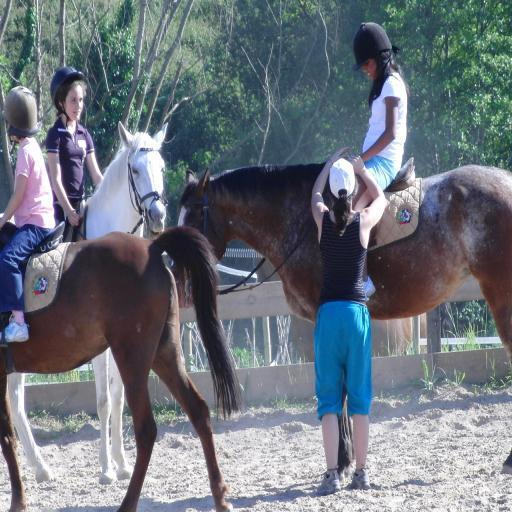horse: (170, 162, 512, 474), (0, 220, 243, 512), (8, 122, 168, 487)
